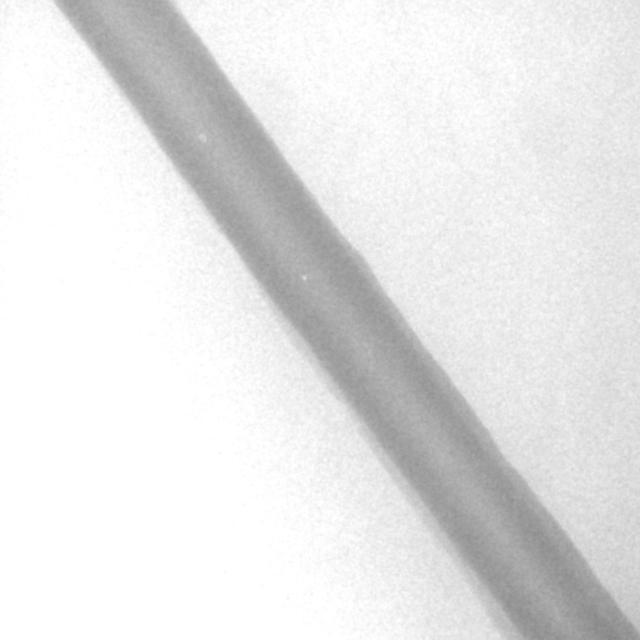air hole: (196, 130, 208, 143), (300, 274, 309, 283)
